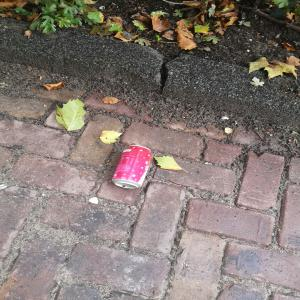Can: (108, 143, 159, 193)
